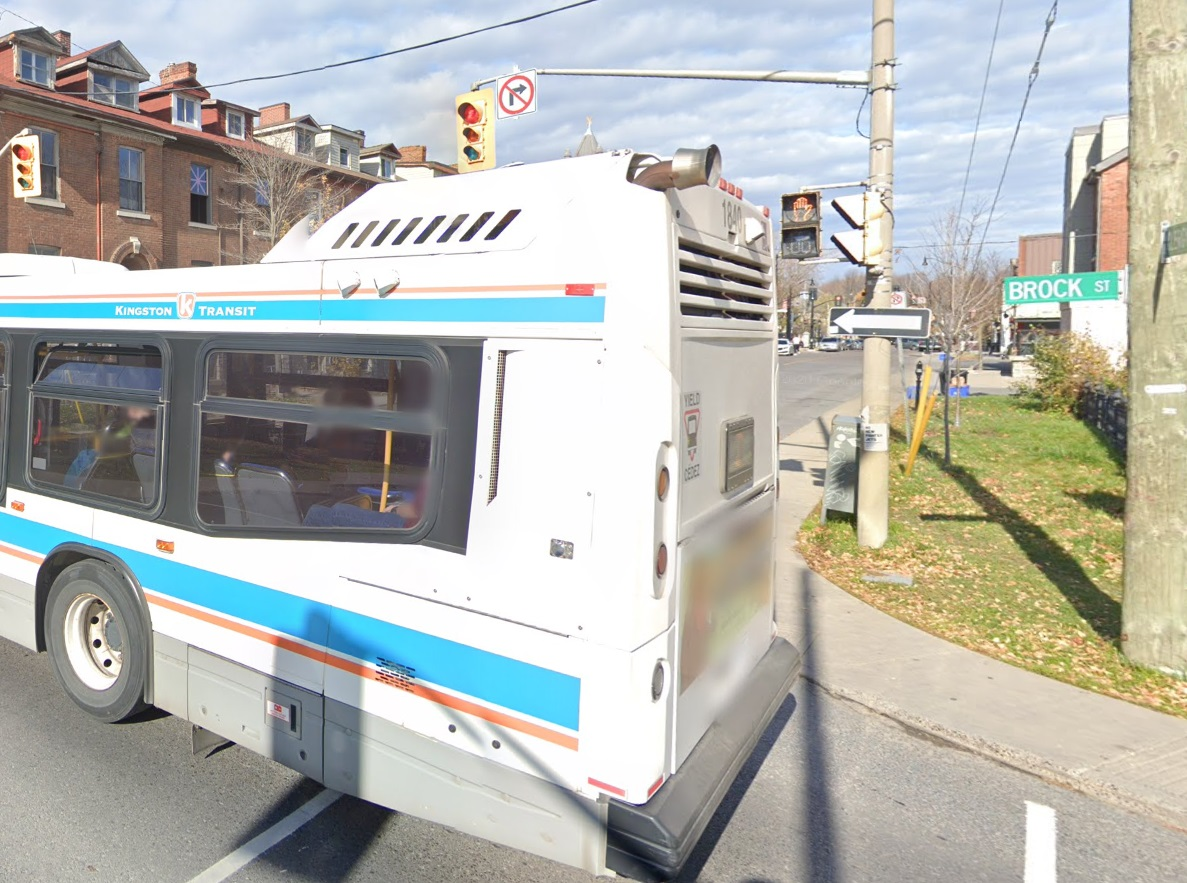sign_oneway_left: (824, 305, 934, 340)
